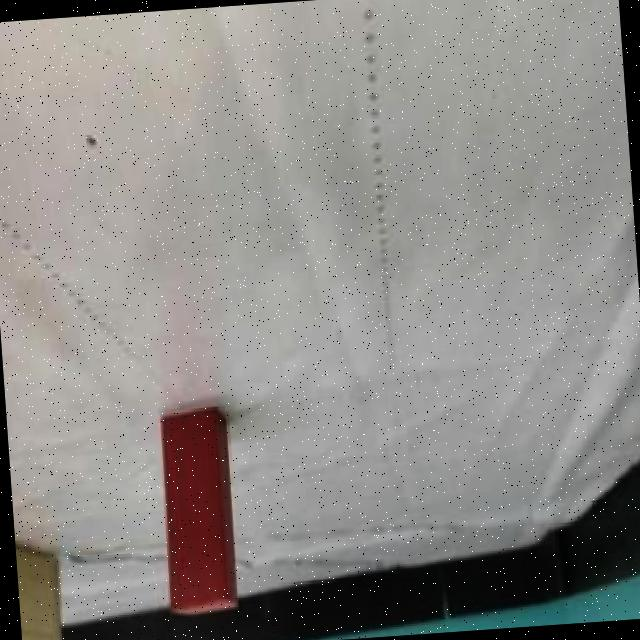redbox: (154, 406, 244, 620)
